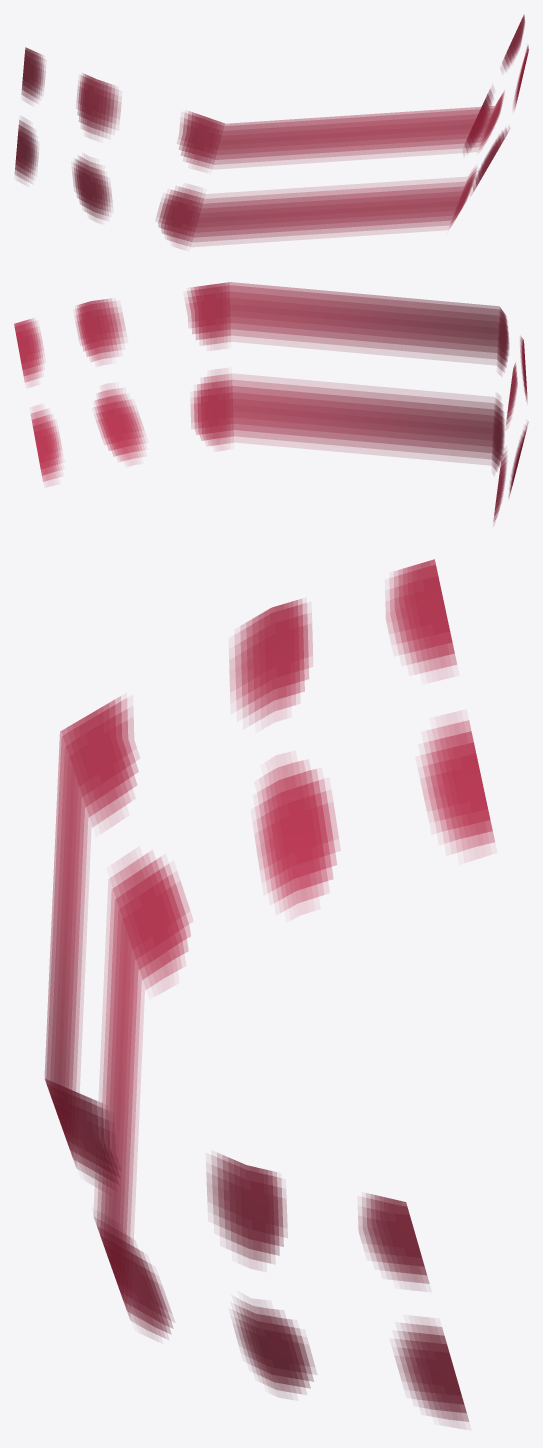
The picture shows the model from 3 angles, top to bottom: view 1: azimuth 30°, elevation 25°; view 2: azimuth 150°, elevation 25°; view 3: azimuth 270°, elevation 25°; orthographic projection. The views are drawn at different scales.
Visible parts, largest first — view 1: ef_411; view 2: ef_411; view 3: ef_411.
Boxes of the visible parts, <box> form: ef_411: <box>15,14,528,248</box>; ef_411: <box>14,282,528,523</box>; ef_411: <box>44,559,494,1428</box>.
Bounding box in the file's own units: 0.9868 × 0.4278 × 0.3946.
Materials: 1 (1 with a texture image).
